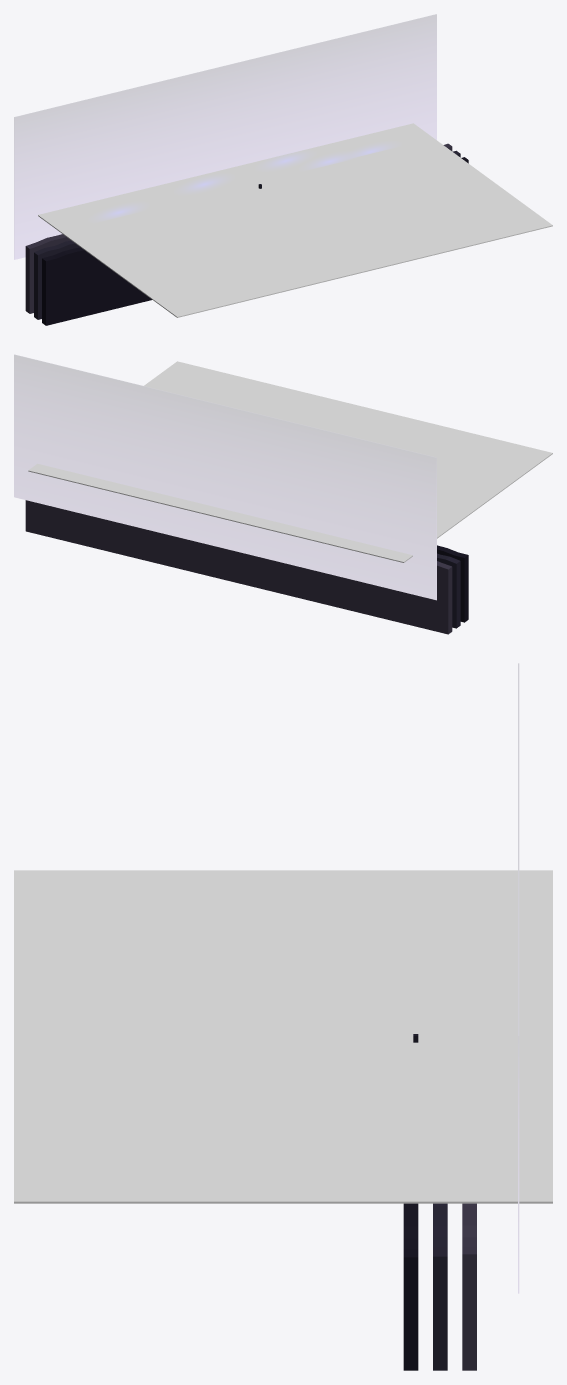
Rendered from hauntedfog.glb.
The picture shows the model from 3 angles, top to bottom: view 1: azimuth 30°, elevation 25°; view 2: azimuth 150°, elevation 25°; view 3: azimuth 270°, elevation 25°; orthographic projection. The views are drawn at different scales.
Visible parts, largest first — view 1: Ground contact / transparent shadow receiver.010, Sky gradient / editable material.010, World / terrain and architecture.008, Motion / cloud 4.002, Motion / cloud 2.002, Motion / cloud 0.002; view 2: Sky gradient / editable material.010, Ground contact / transparent shadow receiver.010, World / terrain and architecture.008; view 3: Ground contact / transparent shadow receiver.010, World / terrain and architecture.008, Sky gradient / editable material.010.
Boxes of the visible parts, <box> form: Ground contact / transparent shadow receiver.010: <box>38,123,552,317</box>; Sky gradient / editable material.010: <box>14,14,436,259</box>; World / terrain and architecture.008: <box>25,143,468,325</box>; Motion / cloud 4.002: <box>263,153,308,168</box>; Motion / cloud 2.002: <box>182,176,226,191</box>; Motion / cloud 0.002: <box>97,204,141,220</box>; Sky gradient / editable material.010: <box>14,354,436,600</box>; Ground contact / transparent shadow receiver.010: <box>28,361,552,562</box>; World / terrain and architecture.008: <box>25,500,468,634</box>; Ground contact / transparent shadow receiver.010: <box>14,870,552,1203</box>; World / terrain and architecture.008: <box>403,1034,476,1370</box>; Sky gradient / editable material.010: <box>518,663,519,1293</box>.
Bounding box in the file's own units: 180 × 75.4 × 110.
12 materials, 1 textured.
